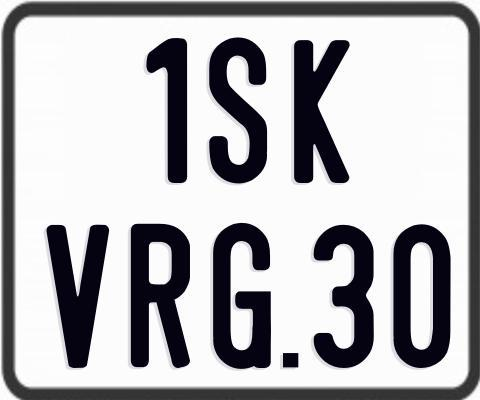0: (392, 222, 450, 372)
1: (146, 37, 189, 188)
3: (312, 225, 374, 370)
G: (210, 222, 268, 374)
K: (293, 39, 350, 182)
R: (131, 223, 196, 368)
S: (207, 37, 267, 183)
V: (44, 224, 109, 371)
